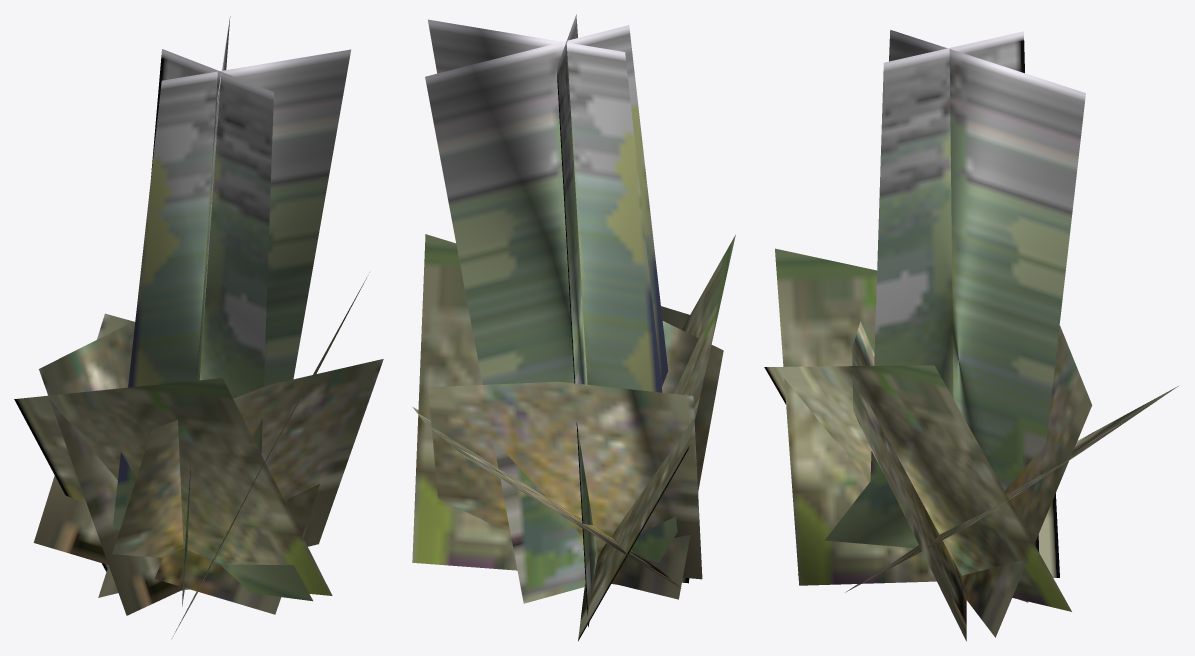
Rendered from SM_Weed_02.fbx.
The picture shows the model from 3 angles, left to right: view 1: azimuth 30°, elevation 25°; view 2: azimuth 150°, elevation 25°; view 3: azimuth 270°, elevation 25°; orthographic projection. The views are drawn at different scales.
Visible parts, largest first — view 1: Weed_02; view 2: Weed_02; view 3: Weed_02.
Part boxes in pixels (x1,y1,x2,y2): Weed_02: [14, 16, 383, 636]; Weed_02: [412, 14, 735, 641]; Weed_02: [764, 30, 1178, 641].
Size of the model in its own units: 76.14 by 84.2 by 126.
